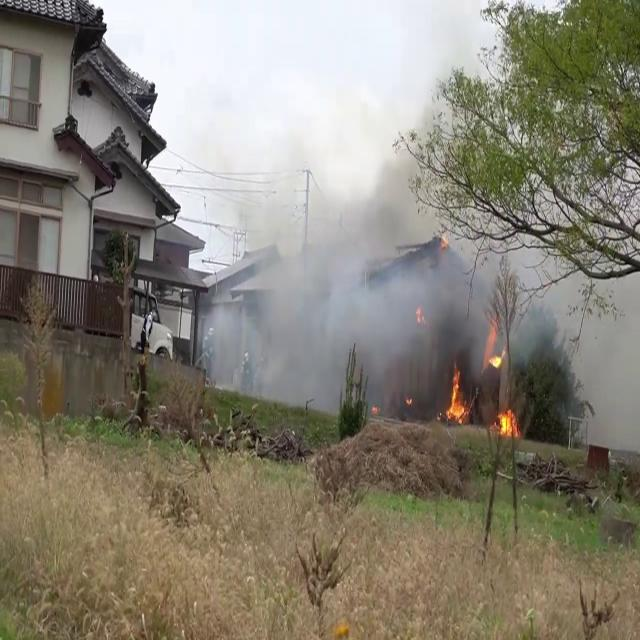Fire: (444, 364, 468, 426)
Smoke: (214, 120, 586, 420)
